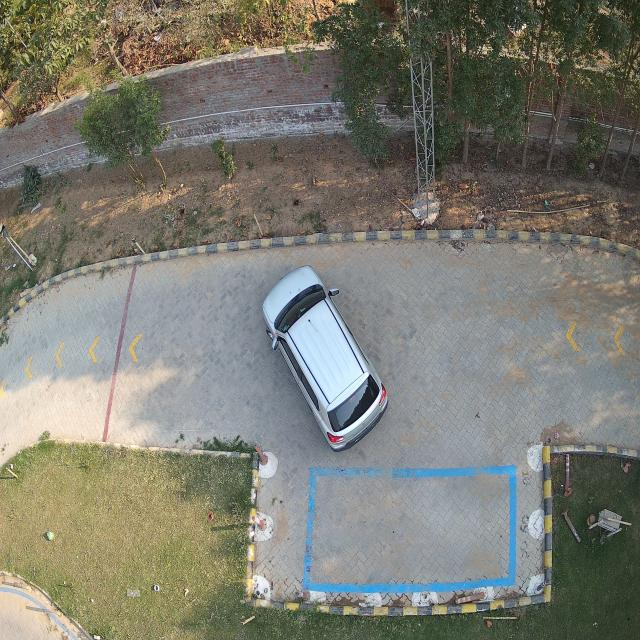car: (262, 265, 389, 452)
